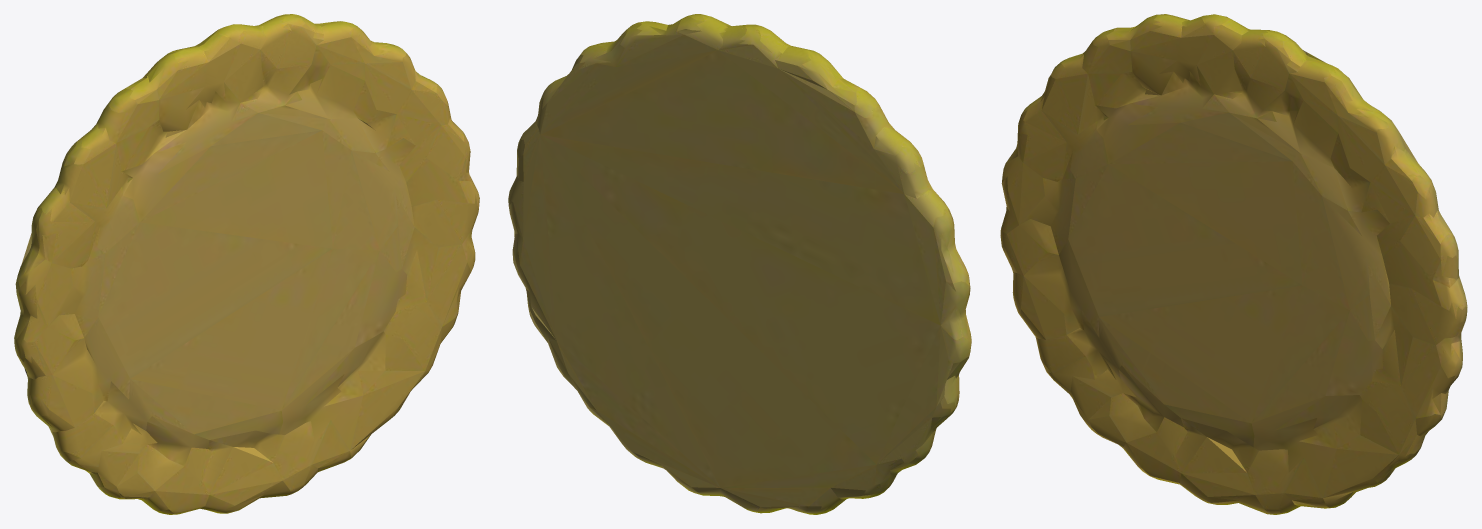
File: pastryCircle.6a3b108c.glb
3 renders of one model, left to right at view 1: azimuth 30°, elevation 25°; view 2: azimuth 150°, elevation 25°; view 3: azimuth 330°, elevation 25°, orthographic.
Visible parts, largest first — view 1: output_unwrapped; view 2: output_unwrapped; view 3: output_unwrapped.
Part boxes in pixels (x1,y1,x2,y2): output_unwrapped: [14, 14, 479, 514]; output_unwrapped: [508, 14, 971, 514]; output_unwrapped: [1000, 14, 1467, 514].
Bounding box in the file's own units: 1.89 × 1.9 × 0.1229.
Materials: 1 (1 with a texture image).
